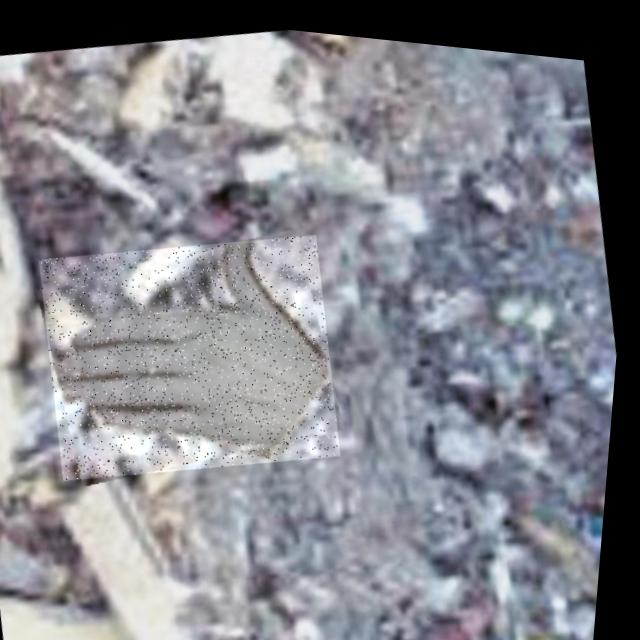Person in Rubble: (29, 205, 362, 501)
